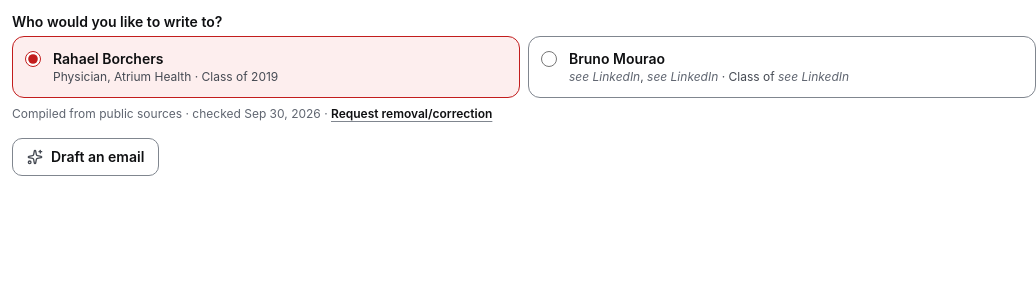
Test: AiColdEmailPanel › renders the budget result kind with its message
This screenshot has width=1036, height=293.
Click the button "Draft an email".
click(86, 157)  # box [12,138,159,176]
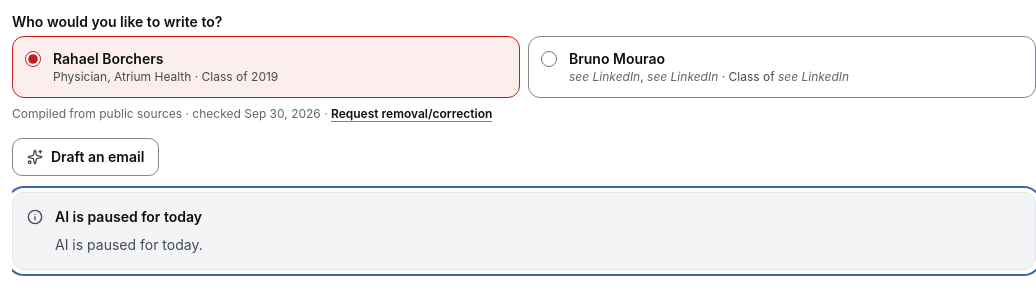
Expected: the message with test id "ai-email-failure" shows "AI is paused for today.", [55,236,203,253]
